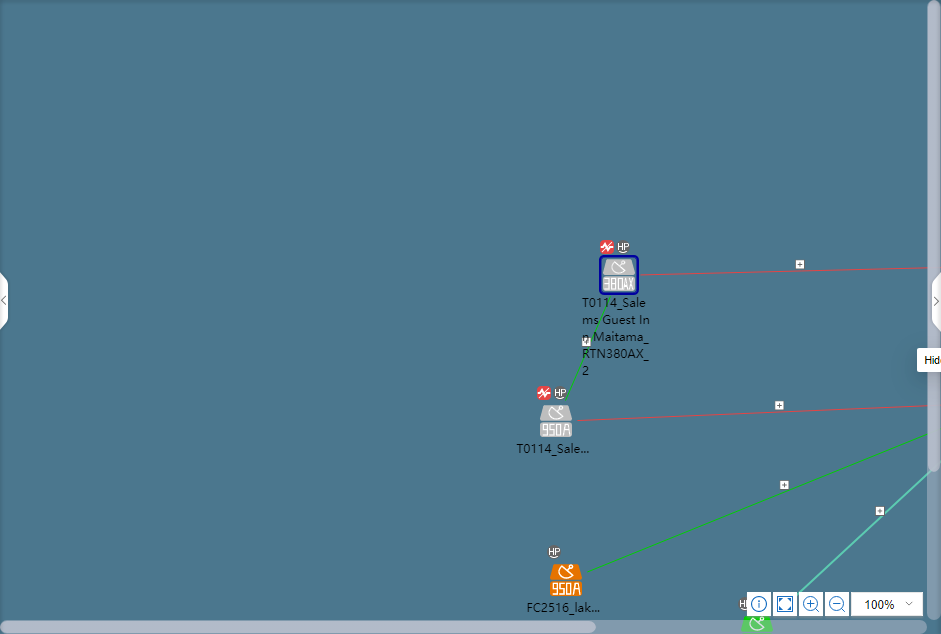Link_Blue: (797, 471, 927, 593)
Link_Green: (586, 434, 927, 575), (563, 297, 613, 402)
Link_Red: (575, 404, 927, 423), (640, 266, 927, 277)
RTN_Gray: (601, 259, 635, 293), (540, 406, 571, 438)
RTN_Orange: (550, 565, 581, 597)
